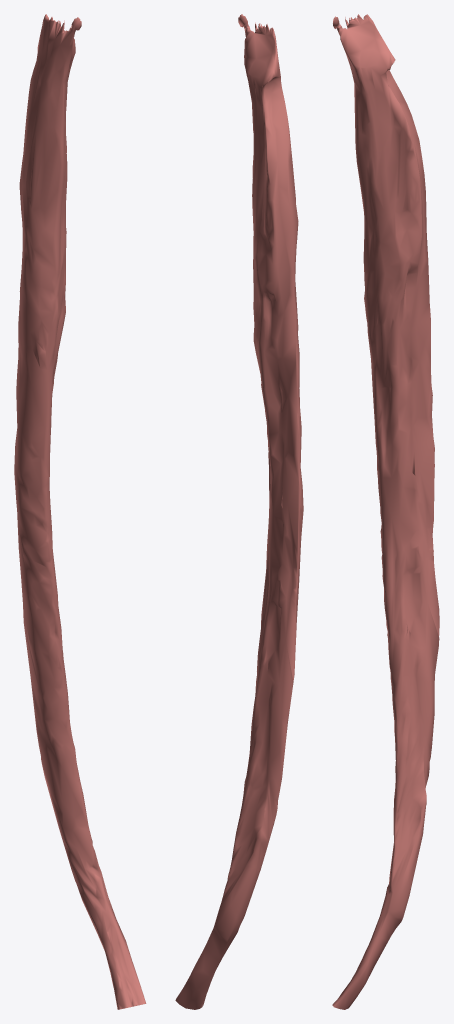
3 views of the same model, side by side, from view 1: azimuth 30°, elevation 25°; view 2: azimuth 210°, elevation 25°; view 3: azimuth 270°, elevation 25° (orthographic). The views are drawn at different scales.
Visible parts, largest first — view 1: ZA_4f66a6e63c310f50; view 2: ZA_4f66a6e63c310f50; view 3: ZA_4f66a6e63c310f50.
Part boxes in pixels (x1,y1,x2,y2): ZA_4f66a6e63c310f50: (14,14,146,1009); ZA_4f66a6e63c310f50: (175,14,303,1009); ZA_4f66a6e63c310f50: (332,14,439,1009).
Bounding box in the file's own units: 0.0324 × 0.3279 × 0.0331.
